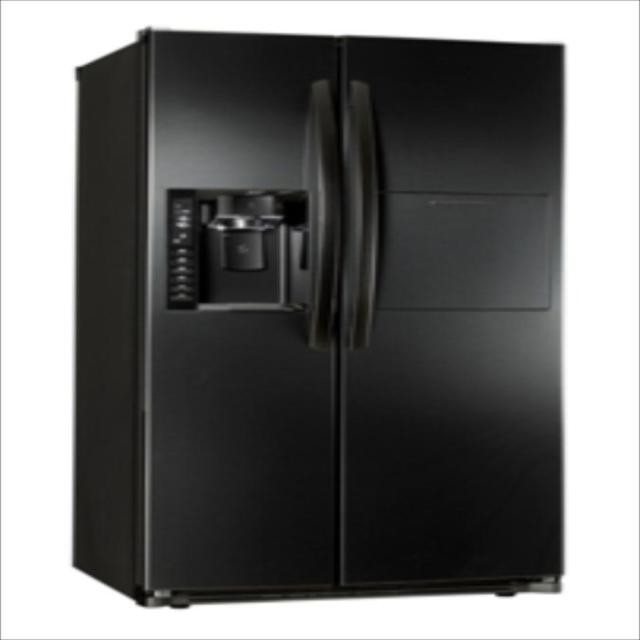obstacle: (39, 12, 590, 629)
